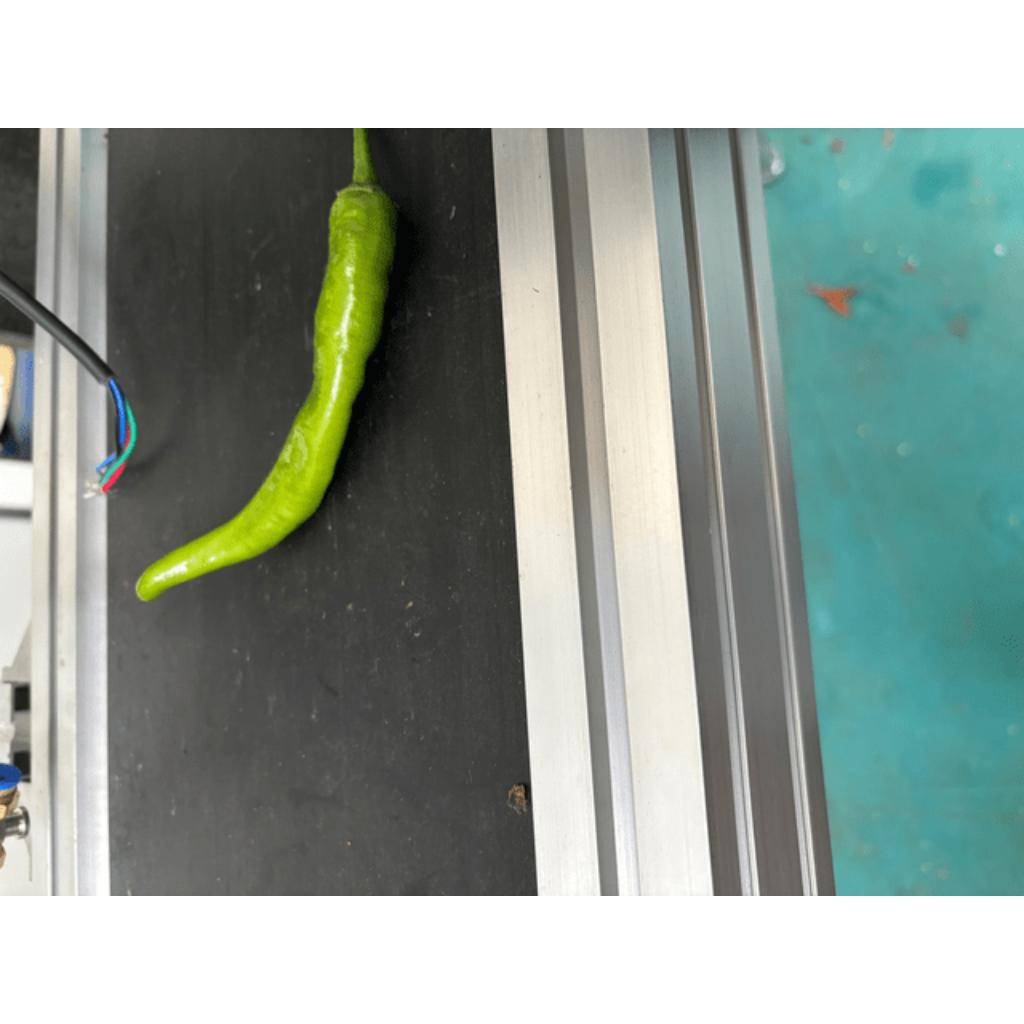chili: (133, 182, 400, 604)
